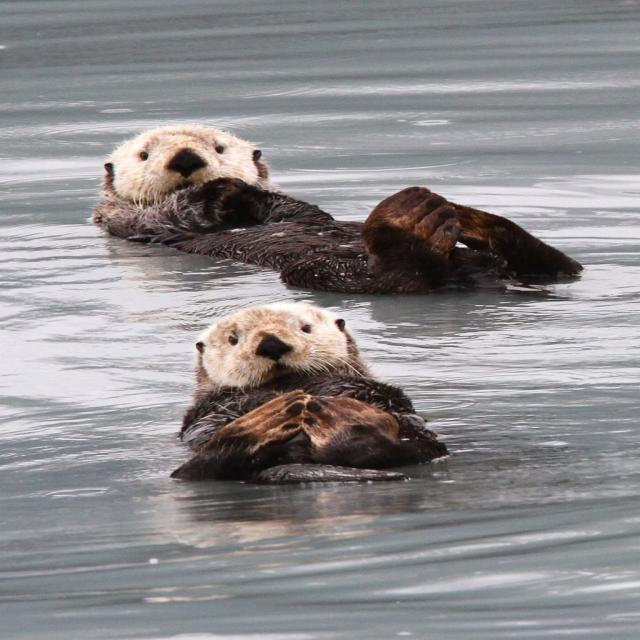otter: (93, 123, 582, 292), (183, 305, 441, 477)
